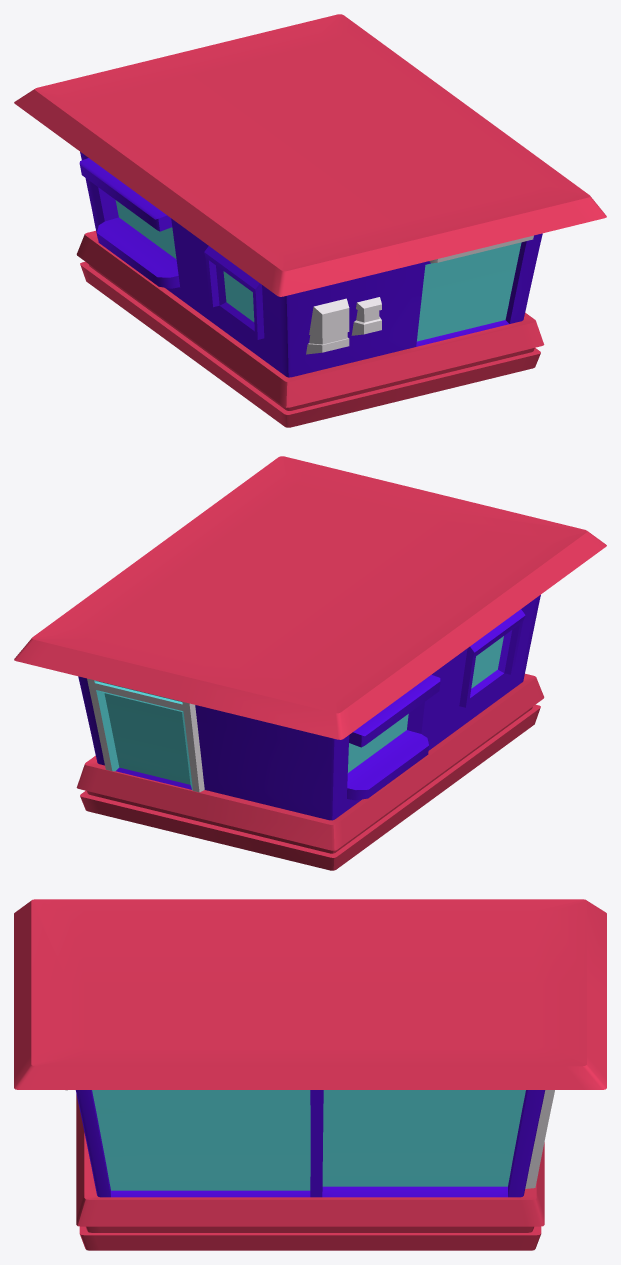
File: FBX_LC_mHouse6.fbx
3 views of the same model, one above another, from view 1: azimuth 30°, elevation 25°; view 2: azimuth 150°, elevation 25°; view 3: azimuth 270°, elevation 25° (orthographic). The views are drawn at different scales.
Visible parts, largest first — view 1: Cube.032; view 2: Cube.032; view 3: Cube.032.
Boxes of the visible parts, left/top/right/bottom form: Cube.032: left=14, top=14, right=606, bottom=427; Cube.032: left=14, top=456, right=606, bottom=870; Cube.032: left=14, top=899, right=606, bottom=1250.
Bounding box in the file's own units: 1637 × 862 × 2303.
